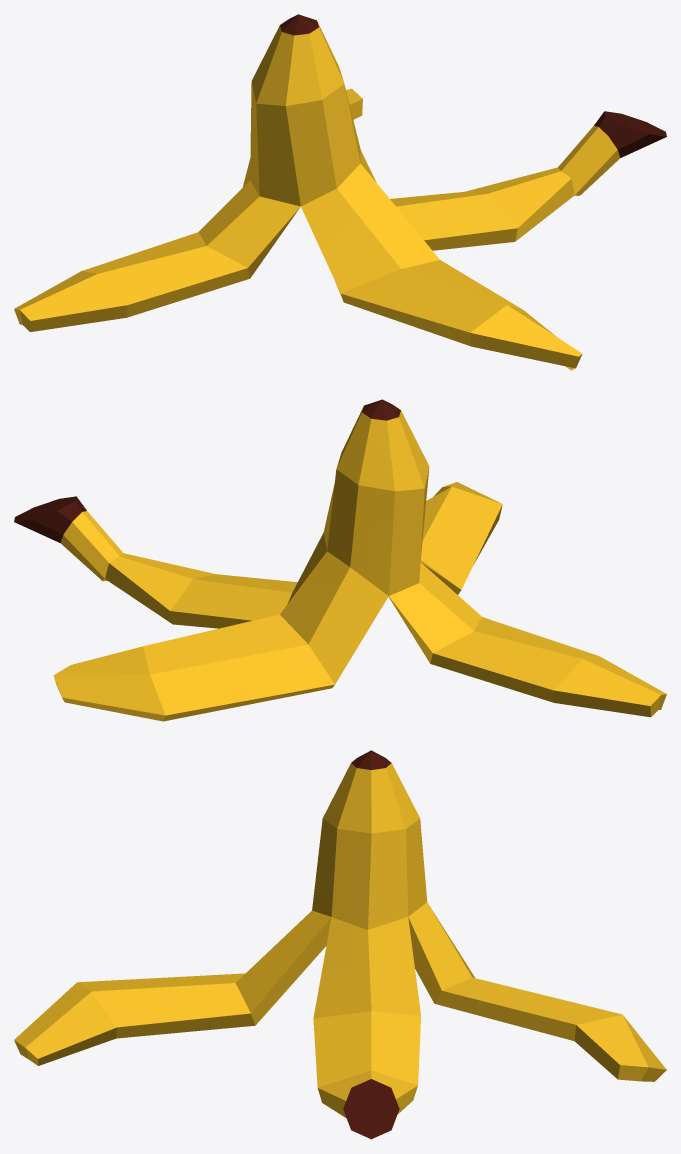
Rendered from banana.fbx.
The picture shows the model from 3 angles, top to bottom: view 1: azimuth 30°, elevation 25°; view 2: azimuth 150°, elevation 25°; view 3: azimuth 270°, elevation 25°; orthographic projection.
Visible parts, largest first — view 1: banana-peel; view 2: banana-peel; view 3: banana-peel.
Part boxes in pixels (x1,y1,x2,y2): banana-peel: [14, 14, 666, 370]; banana-peel: [14, 399, 666, 721]; banana-peel: [14, 750, 666, 1139].
Bounding box in the file's own units: 38.08 × 14.72 × 33.12.
Materials: 1 (1 with a texture image).
